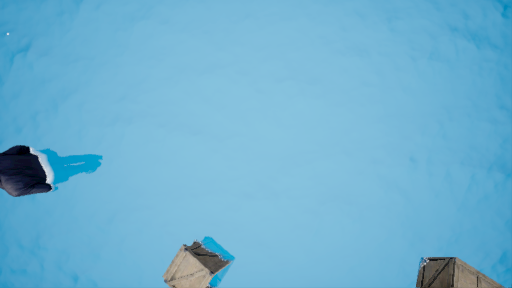person: (6, 143, 111, 202)
